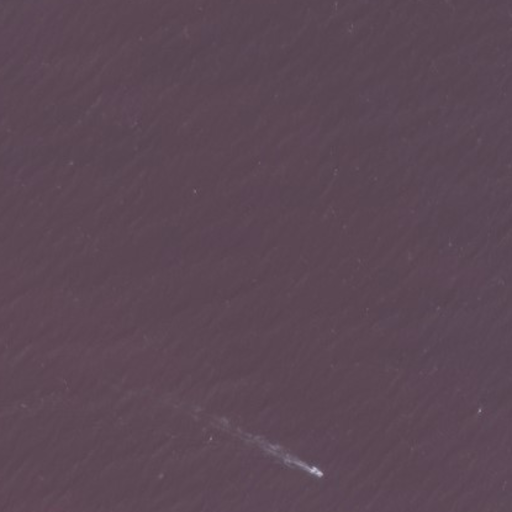ship: (307, 463, 325, 481)
